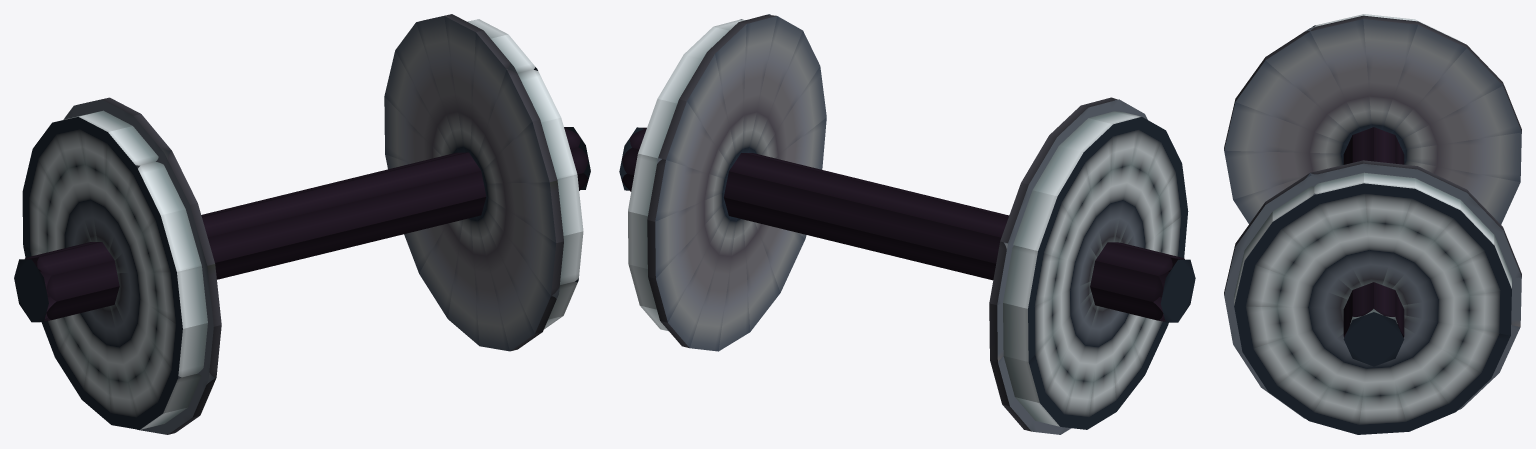
Rendered from hxd3d_wheel.obj.
3 views of the same model, side by side, from view 1: azimuth 30°, elevation 25°; view 2: azimuth 150°, elevation 25°; view 3: azimuth 270°, elevation 25° (orthographic). The views are drawn at different scales.
Visible parts, largest first — view 1: 轮对_selection; view 2: 轮对_selection; view 3: 轮对_selection.
Boxes of the visible parts, x1=… form: 轮对_selection: x1=14, y1=14, x2=590, y2=434; 轮对_selection: x1=619, y1=14, x2=1195, y2=434; 轮对_selection: x1=1224, y1=14, x2=1521, y2=434.
Bounding box in the file's own units: 2.19 × 1.2 × 1.2.
